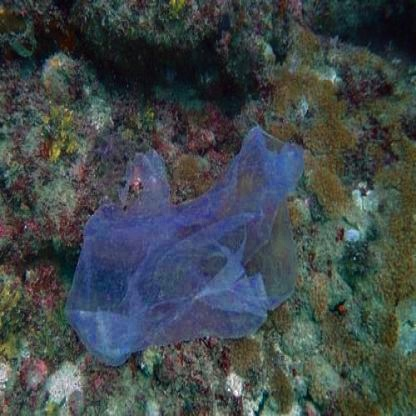pbag: (62, 122, 312, 371)
